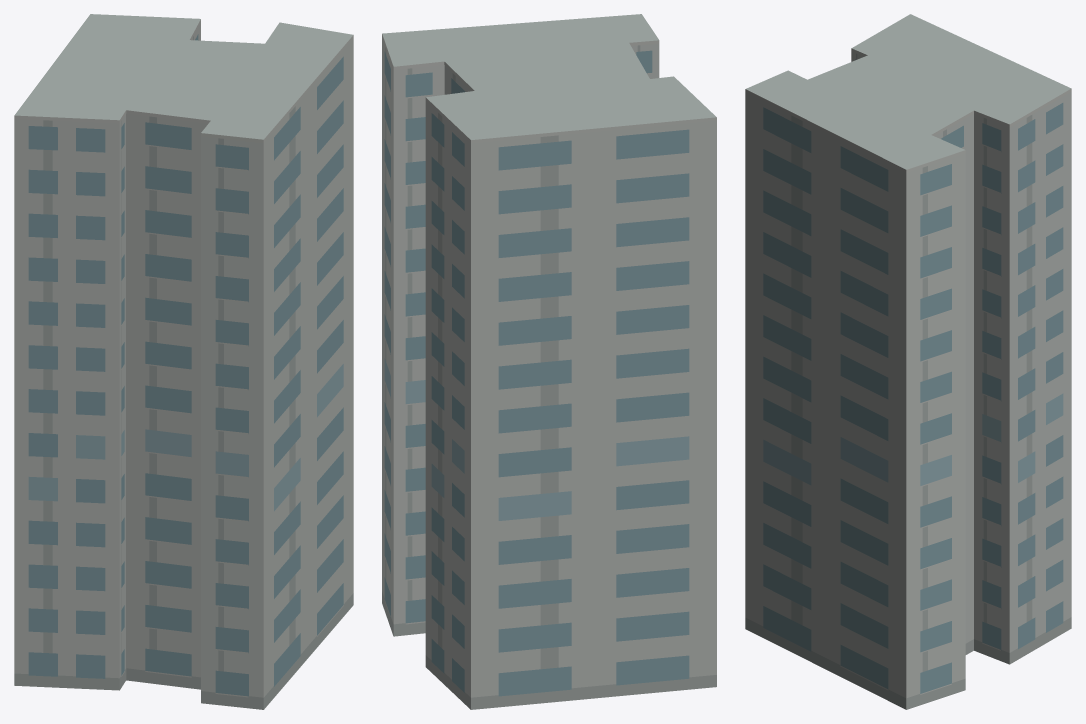
File: residential-8371ccd5-ab1c-4b94-b0cf-4b322a06aef4.glb
3 views of the same model, side by side, from view 1: azimuth 30°, elevation 25°; view 2: azimuth 150°, elevation 25°; view 3: azimuth 270°, elevation 25° (orthographic). The views are drawn at different scales.
Parts seen in each view (by area): view 1: residential-8371ccd5-ab1c-4b94-b0cf-4b322a06aef4.tmp; view 2: residential-8371ccd5-ab1c-4b94-b0cf-4b322a06aef4.tmp; view 3: residential-8371ccd5-ab1c-4b94-b0cf-4b322a06aef4.tmp.
Boxes of the visible parts, x1,y1,x2,y2 form: residential-8371ccd5-ab1c-4b94-b0cf-4b322a06aef4.tmp: (14,14,353,709); residential-8371ccd5-ab1c-4b94-b0cf-4b322a06aef4.tmp: (382,14,716,709); residential-8371ccd5-ab1c-4b94-b0cf-4b322a06aef4.tmp: (745,14,1071,709).
Bounding box in the file's own units: 25.38 × 41 × 22.44.
